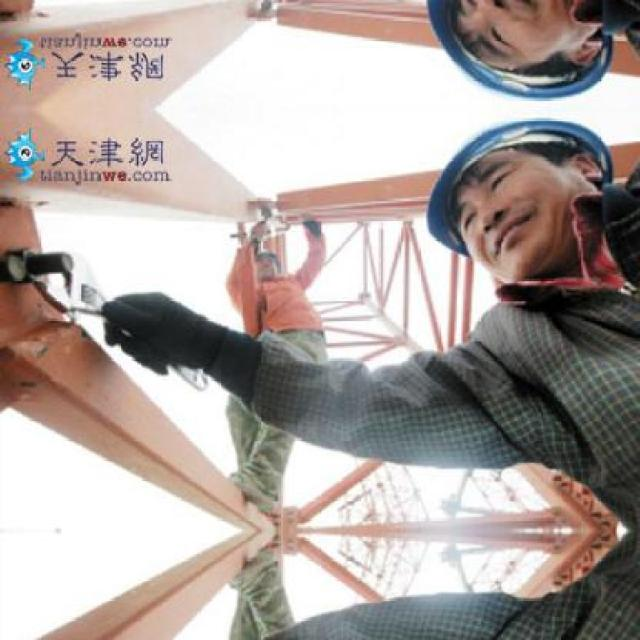helmet: (402, 110, 635, 308), (402, 0, 636, 106)
